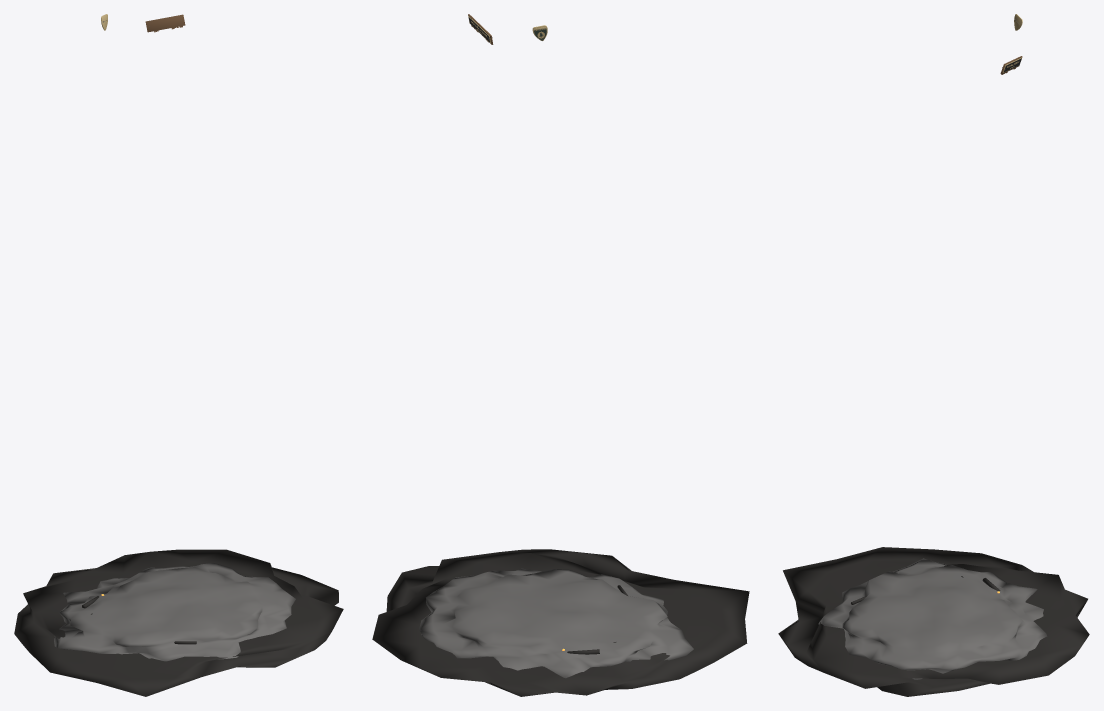
The model's file is wendigo_story.glb.
3 renders of one model, left to right at view 1: azimuth 30°, elevation 25°; view 2: azimuth 150°, elevation 25°; view 3: azimuth 270°, elevation 25°, orthographic. The views are drawn at different scales.
Parts seen in each view (by area): view 1: AshPile; view 2: AshPile; view 3: AshPile.
Part boxes in pixels (left/top/right/bottom): AshPile: left=14, top=549, right=343, bottom=696; AshPile: left=372, top=549, right=749, bottom=696; AshPile: left=778, top=547, right=1089, bottom=696.
Bounding box in the file's own units: 1.93 × 3.6 × 1.7.
